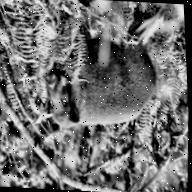boar: (37, 23, 174, 152)
